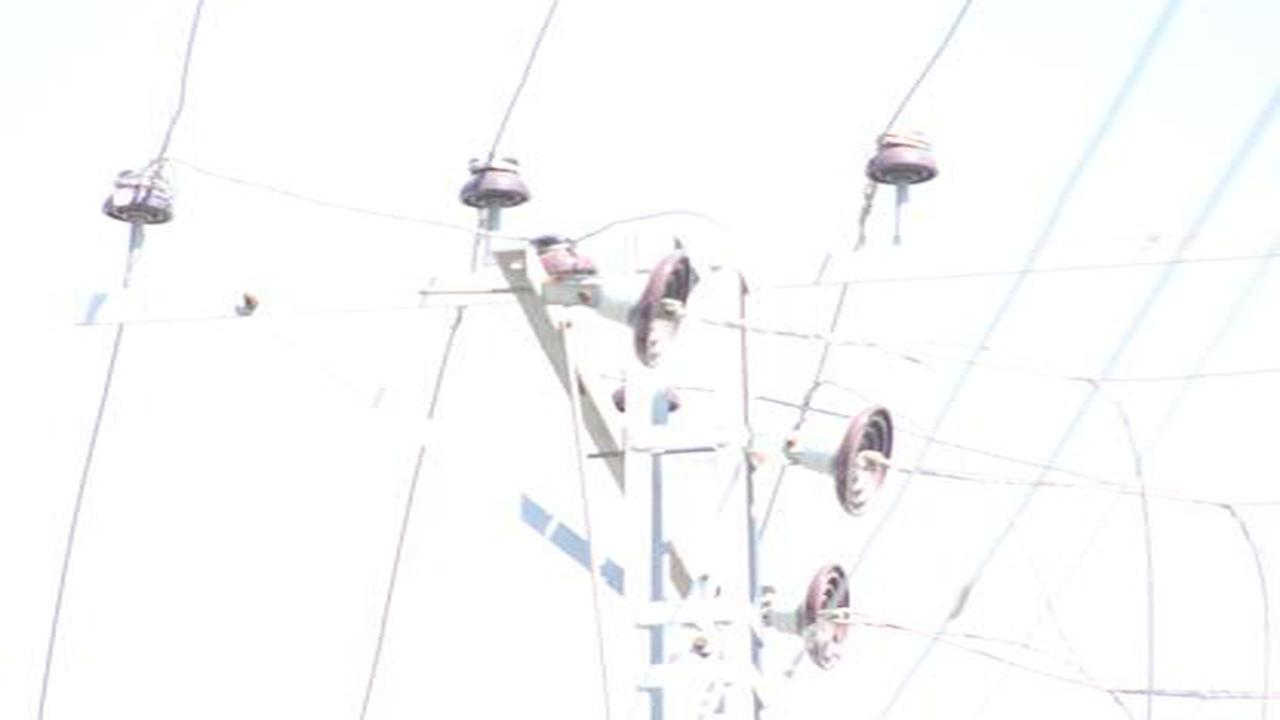insulator_disc: (818, 408, 898, 518), (630, 252, 697, 367), (790, 563, 854, 670)
insulator_pin: (98, 165, 178, 231), (864, 128, 941, 192), (457, 151, 535, 211), (529, 233, 600, 289)
